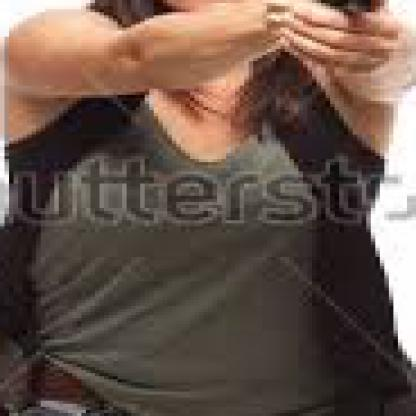gun: (281, 0, 412, 34)
